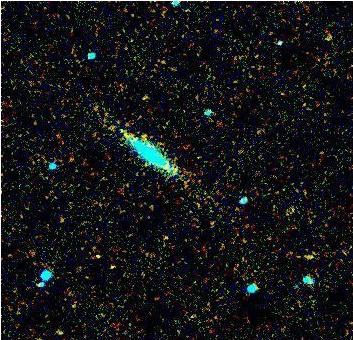star: (106, 116, 136, 146)
